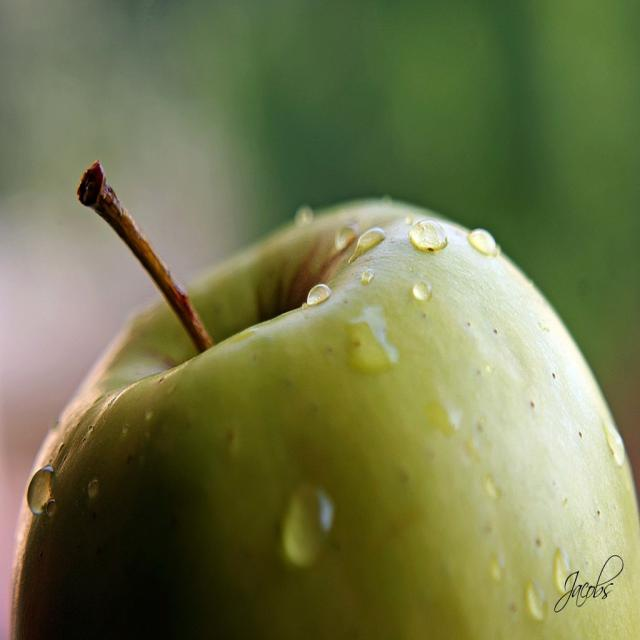Healty Apple: (81, 170, 616, 640)
